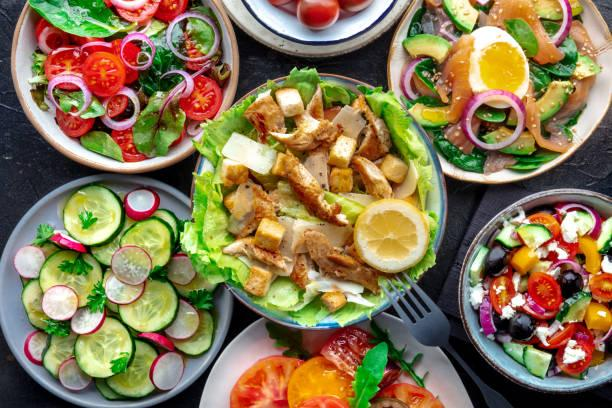Braised Crucian Carp: (197, 73, 439, 328), (0, 173, 226, 406), (386, 2, 608, 186), (12, 2, 237, 174), (455, 187, 608, 396)
